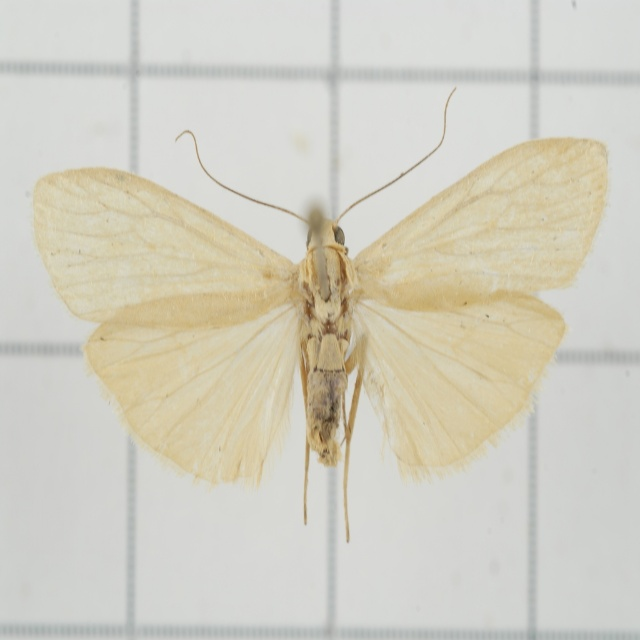Butterfly: (32, 83, 640, 564)
